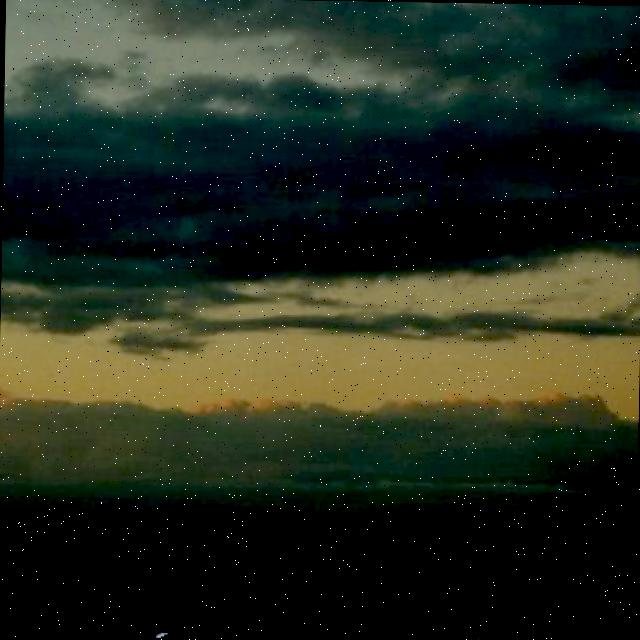Sc: (1, 23, 640, 363)
